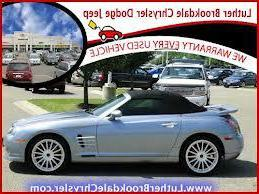Car: (2, 86, 251, 180), (4, 58, 35, 90), (222, 68, 259, 93)
